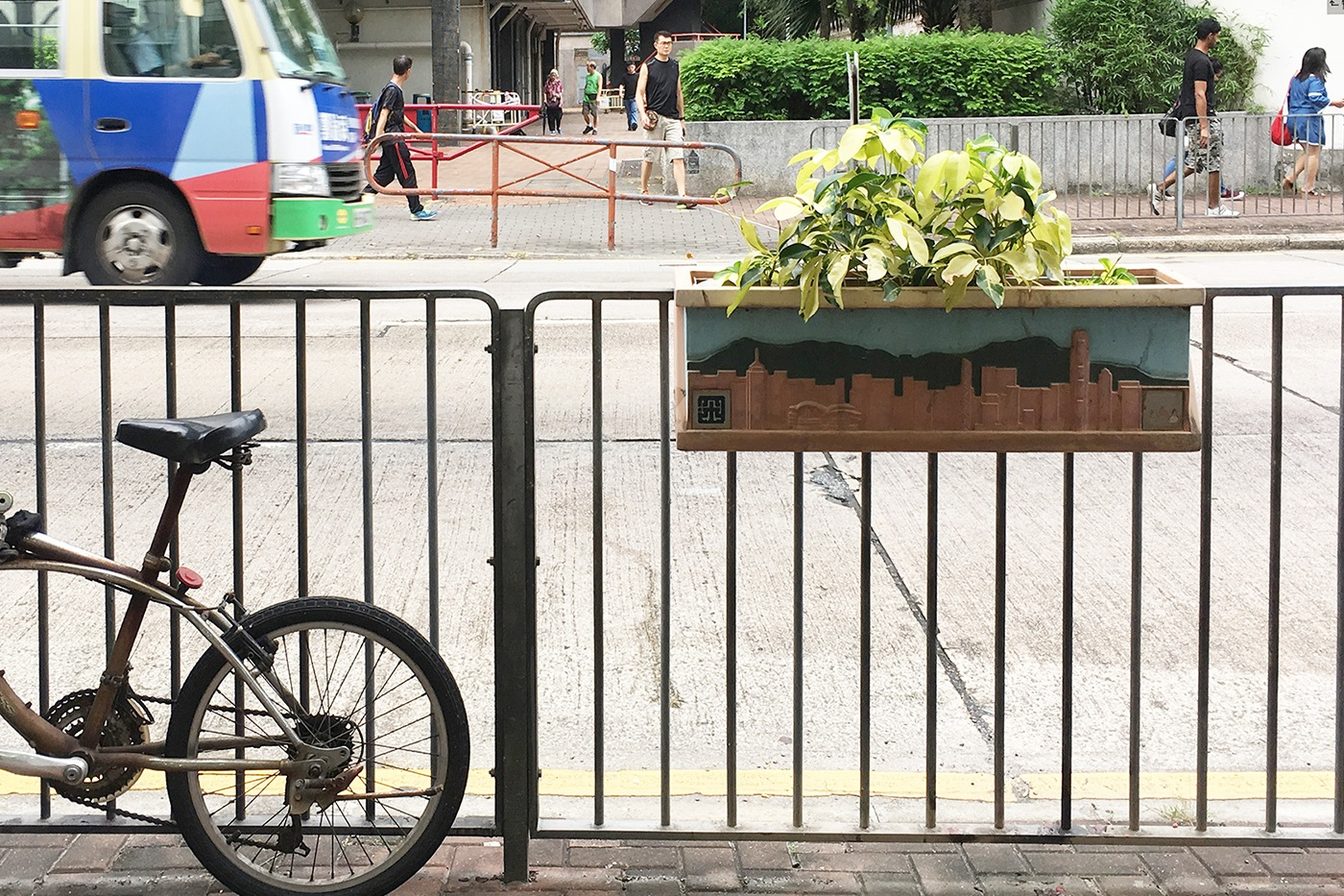Bicycle: (1, 418, 469, 896)
Fence: (462, 304, 1344, 836)
